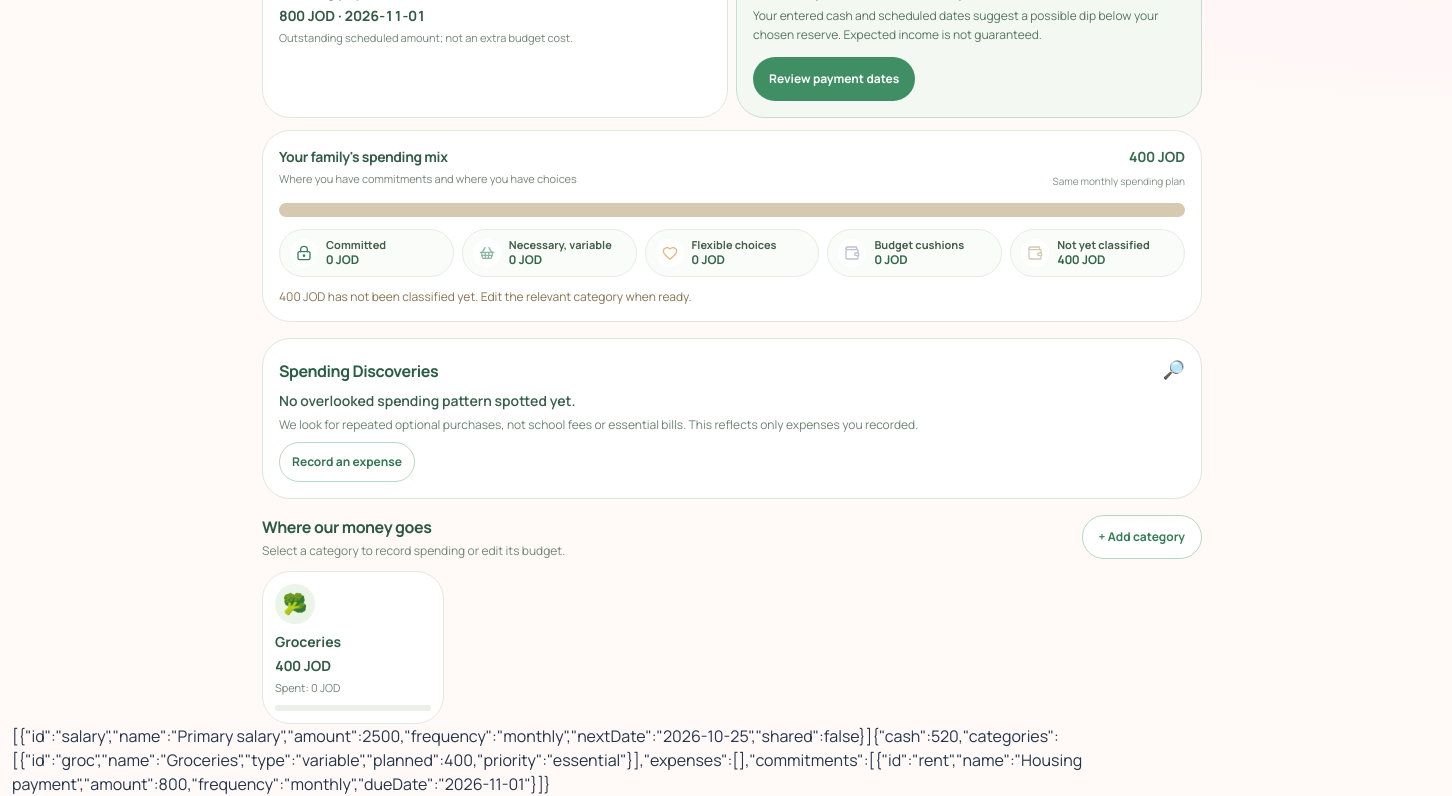
Test case: Approved core Money concept › shows monthly overview, classified spending mix and categories, without parallel planning modules
The image size is (1452, 796).
(page scrolled)
Check: the element with test id "money-spending-mix" is shown, box [262, 130, 1202, 322]
Check: the heading "Where our money goes" is shown, box [262, 516, 432, 538]
Click the button with test id "category-picture-groceries".
click(353, 647)  # box [262, 571, 444, 724]
(page scrolled)
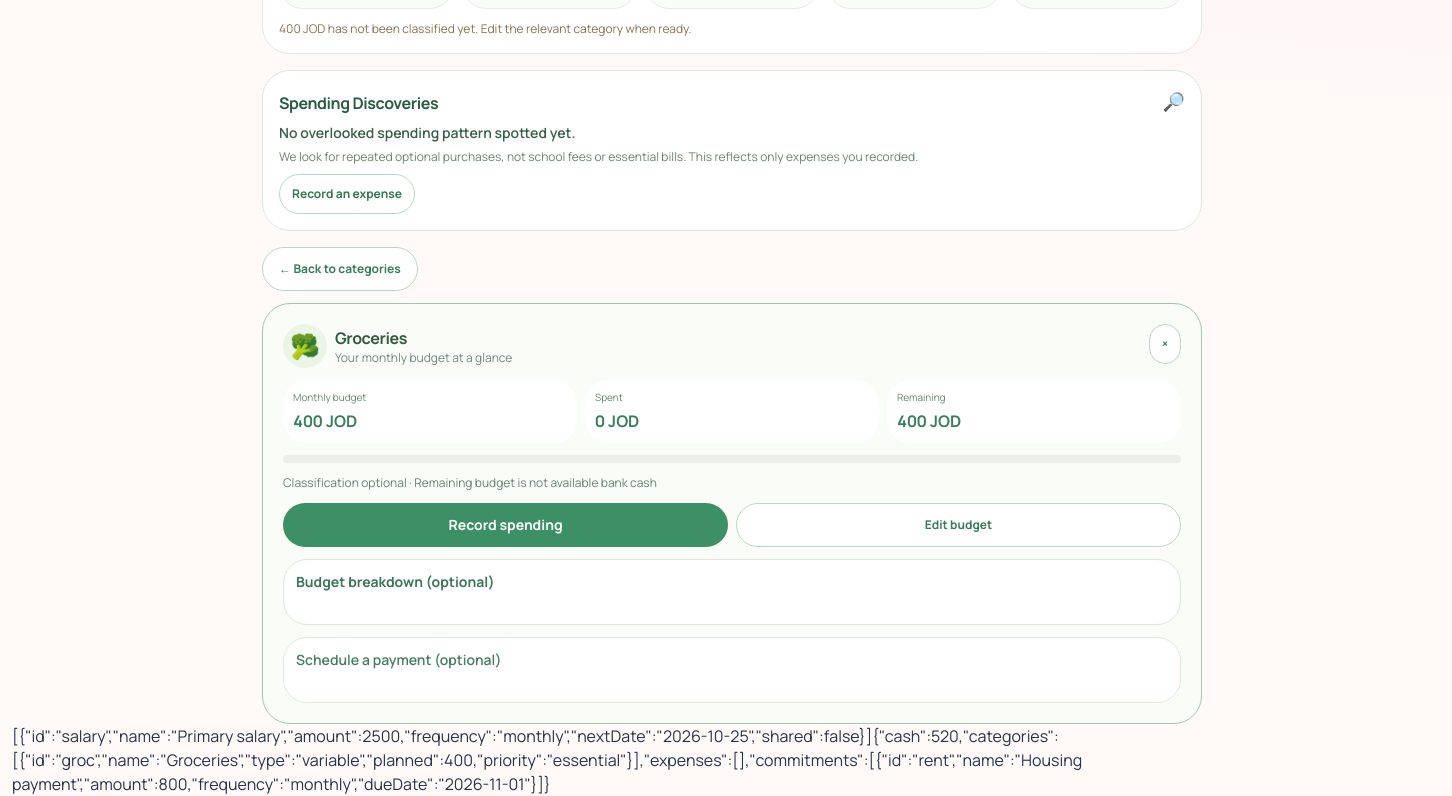
Check: the element with test id "unified-category-details" is shown, box [262, 303, 1202, 724]
Check: the element with test id "money-category-preview" is gone
Check: the button "← Back to categories" is shown, box [262, 247, 418, 291]
